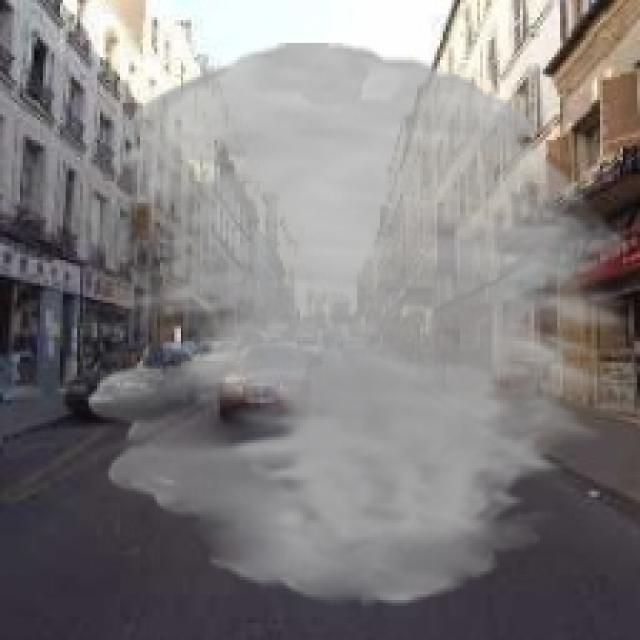Smoke: (88, 43, 634, 606)
